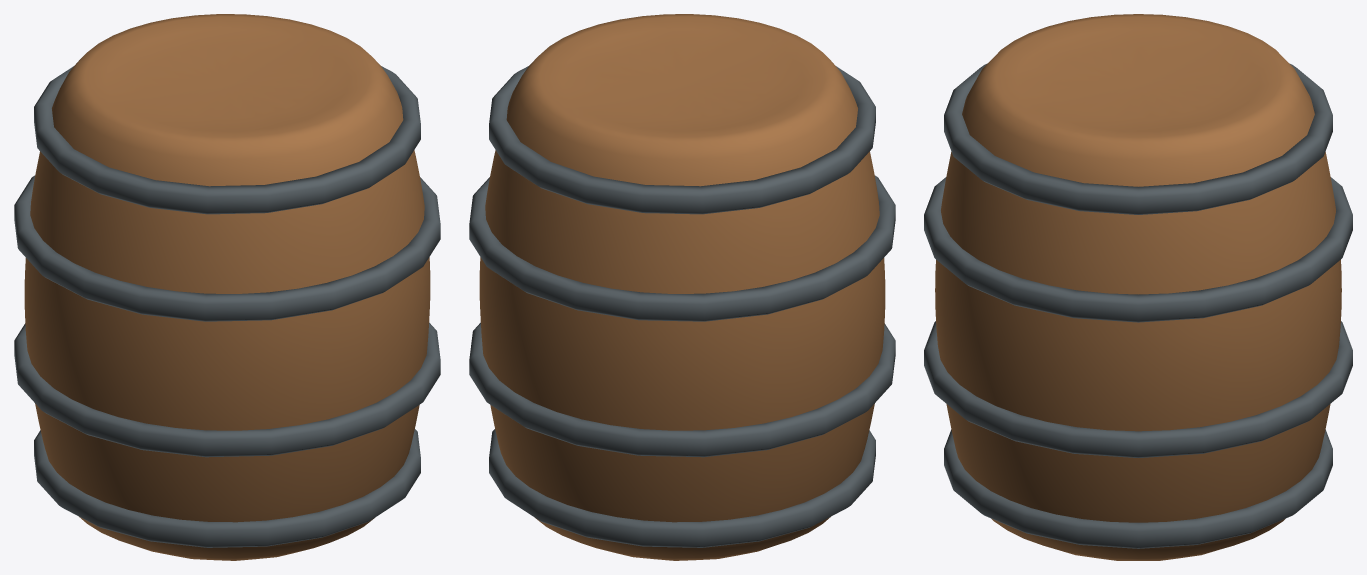
File: barrel.glb
3 renders of one model, left to right at view 1: azimuth 30°, elevation 25°; view 2: azimuth 150°, elevation 25°; view 3: azimuth 270°, elevation 25°, orthographic.
Visible parts, largest first — view 1: Barrel_Staves, Barrel_Hoops; view 2: Barrel_Staves, Barrel_Hoops; view 3: Barrel_Staves, Barrel_Hoops.
Part boxes in pixels (x1,y1,x2,y2): Barrel_Staves: (24,14,430,560); Barrel_Hoops: (14,66,440,547); Barrel_Staves: (479,14,885,560); Barrel_Hoops: (469,66,895,547); Barrel_Staves: (935,14,1341,560); Barrel_Hoops: (924,63,1352,548).
Size of the model in its own units: 0.7453 by 0.8285 by 0.7453.
